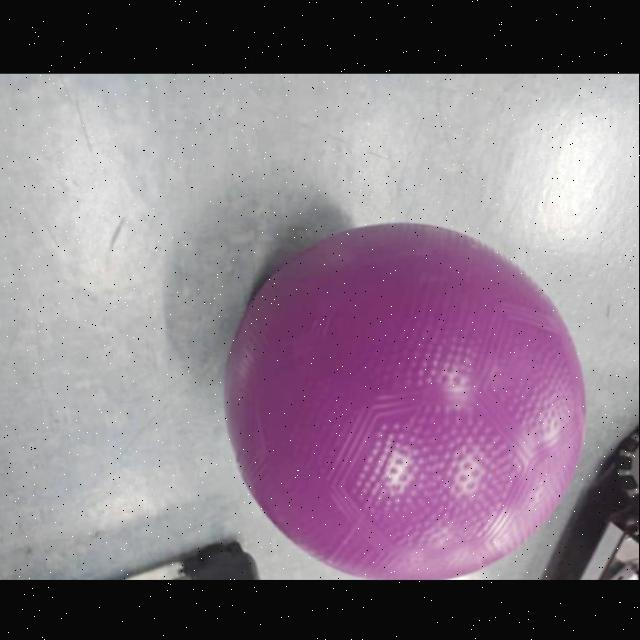P: (214, 216, 604, 580)
